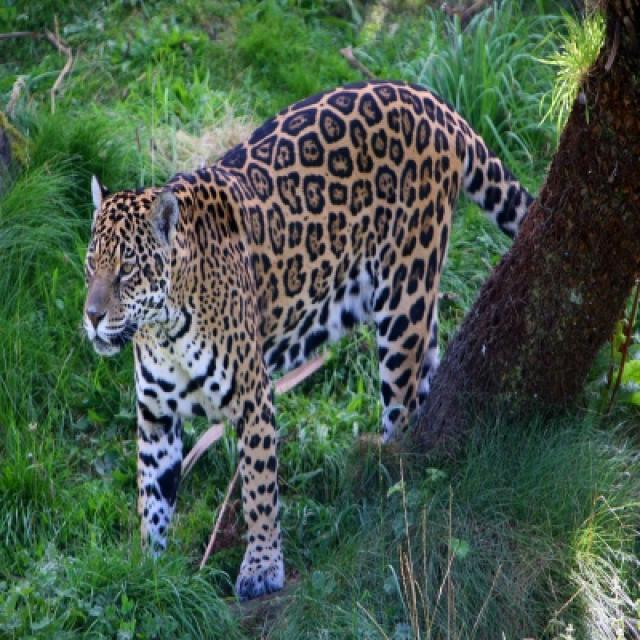Jaguar: (82, 80, 533, 605)
